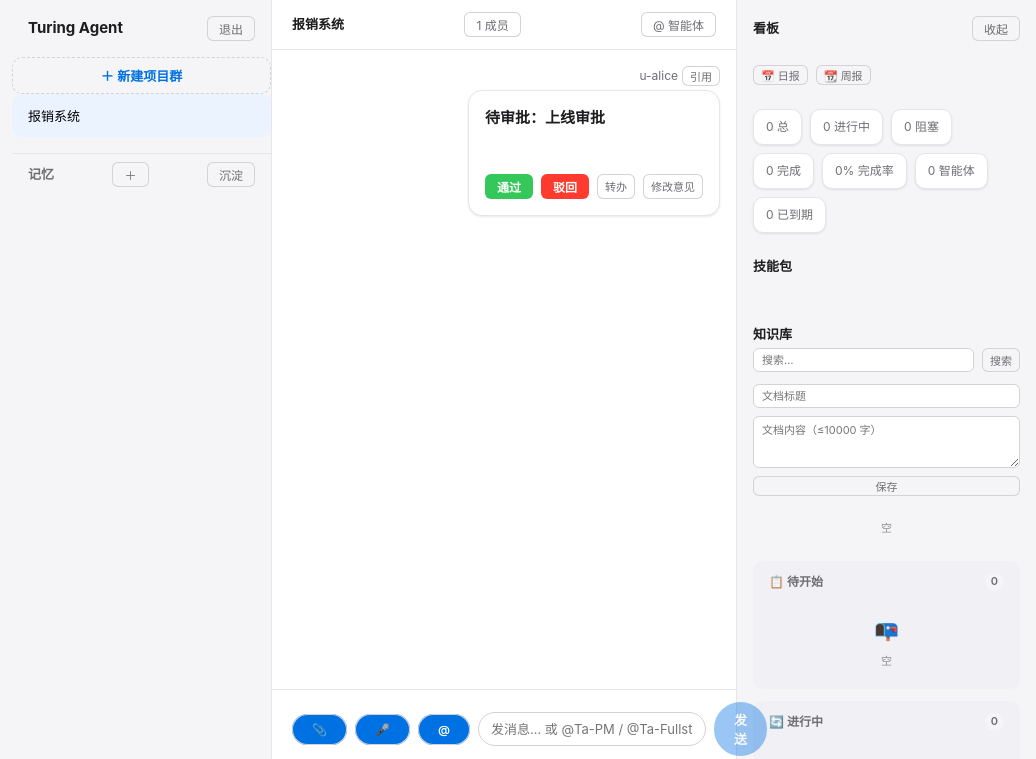
it: Chat › renders a pending confirmation card with decide buttons
Expected: the text "待审批：上线审批" is shown, [485, 108, 605, 127]
Click the button "通过" at (509, 186), box [485, 174, 533, 198]
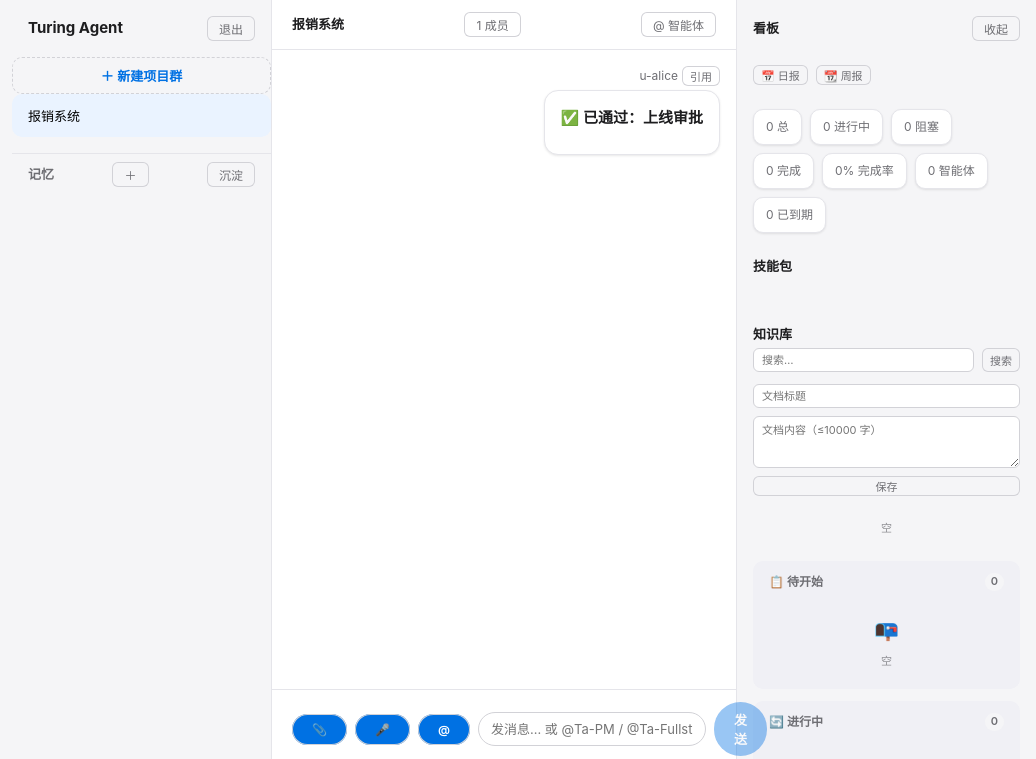
Expected: the text "✅ 已通过：上线审批" is shown, [560, 107, 703, 130]
